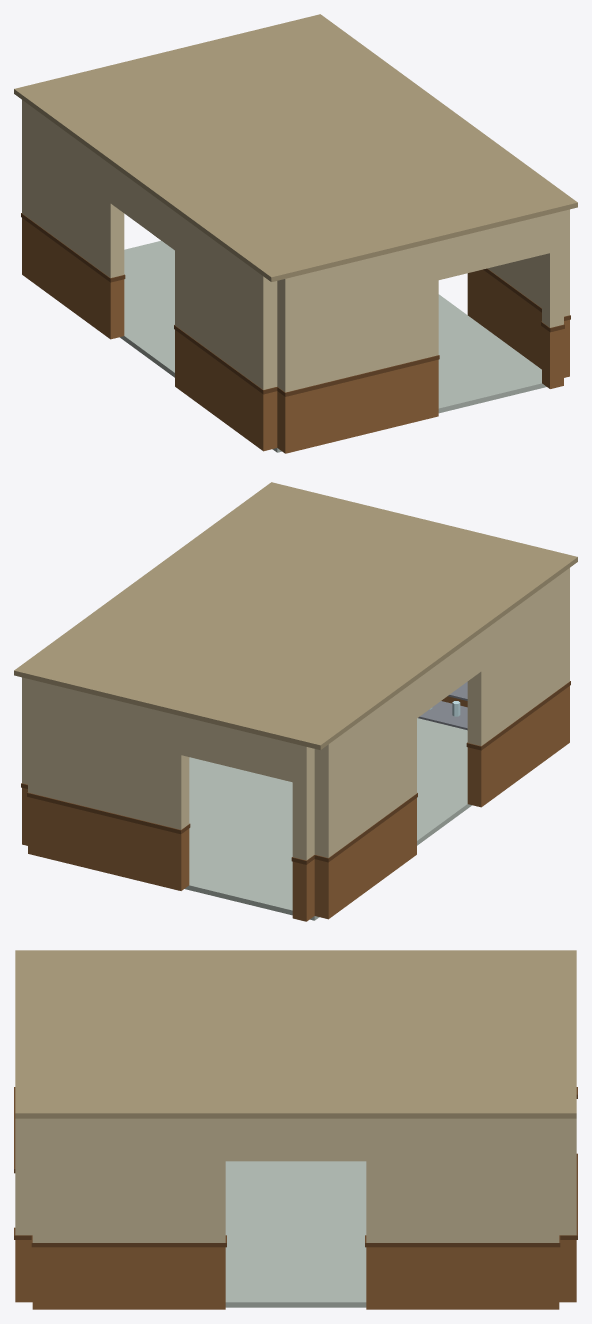
File: room_botany_autoclave_room.glb
The picture shows the model from 3 angles, top to bottom: view 1: azimuth 30°, elevation 25°; view 2: azimuth 150°, elevation 25°; view 3: azimuth 270°, elevation 25°; orthographic projection. The views are drawn at different scales.
Parts seen in each view (by area): view 1: room_botany_autoclave_room; view 2: room_botany_autoclave_room; view 3: room_botany_autoclave_room.
Part boxes in pixels (bbox=[...]): room_botany_autoclave_room: bbox=[14, 14, 577, 453]; room_botany_autoclave_room: bbox=[14, 482, 577, 921]; room_botany_autoclave_room: bbox=[14, 950, 577, 1309].
Bounding box in the file's own units: 6.62 × 3.8 × 9.64.
1 material, 1 textured.
